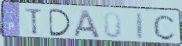0: (103, 11, 123, 40)
A: (72, 9, 102, 39)
C: (152, 13, 178, 41)
D: (48, 8, 73, 37)
I: (135, 12, 145, 41)
T: (24, 7, 44, 36)
